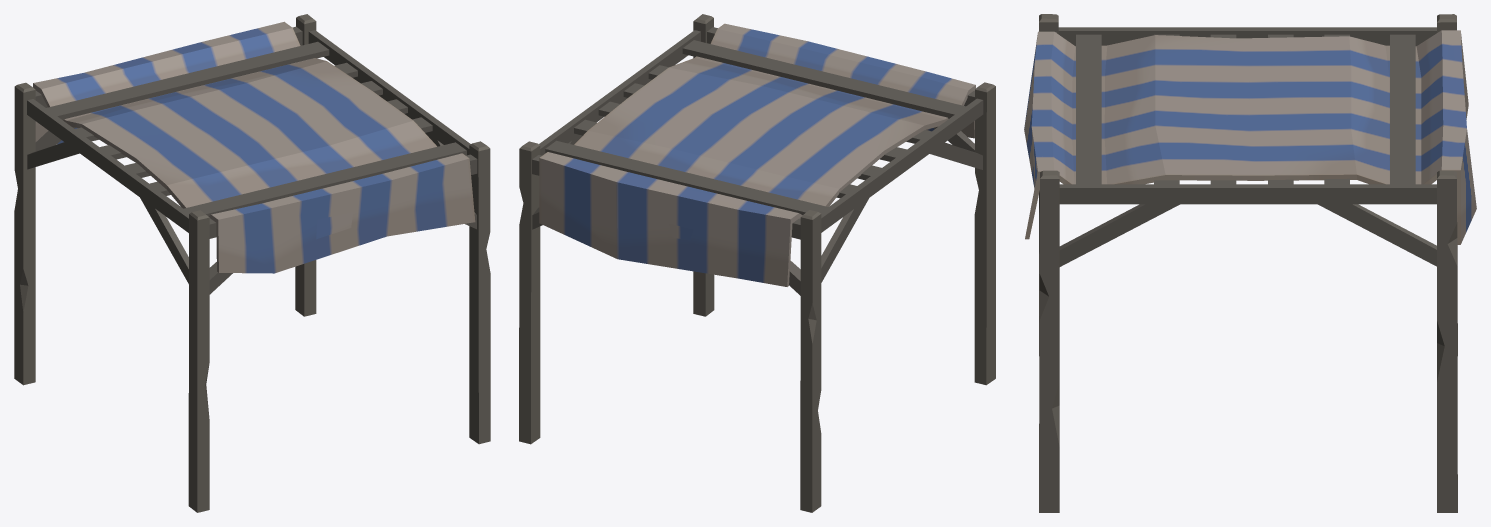
Rendered from SM_Bld_Village_ClothCover_Large_01.fbx.
3 renders of one model, left to right at view 1: azimuth 30°, elevation 25°; view 2: azimuth 150°, elevation 25°; view 3: azimuth 270°, elevation 25°, orthographic. The views are drawn at different scales.
Parts seen in each view (by area): view 1: SM_Bld_Village_ClothCover_Large_Cloth_01, SM_Bld_Village_ClothCover_Large_01; view 2: SM_Bld_Village_ClothCover_Large_Cloth_01, SM_Bld_Village_ClothCover_Large_01; view 3: SM_Bld_Village_ClothCover_Large_Cloth_01, SM_Bld_Village_ClothCover_Large_01.
Boxes of the visible parts, bbox=[...] form: SM_Bld_Village_ClothCover_Large_Cloth_01: bbox=[33, 21, 475, 273]; SM_Bld_Village_ClothCover_Large_01: bbox=[14, 14, 490, 512]; SM_Bld_Village_ClothCover_Large_Cloth_01: bbox=[539, 23, 975, 286]; SM_Bld_Village_ClothCover_Large_01: bbox=[519, 14, 995, 512]; SM_Bld_Village_ClothCover_Large_Cloth_01: bbox=[1024, 30, 1476, 244]; SM_Bld_Village_ClothCover_Large_01: bbox=[1039, 14, 1457, 512].
Bounding box in the file's own units: 417 × 400 × 488.
